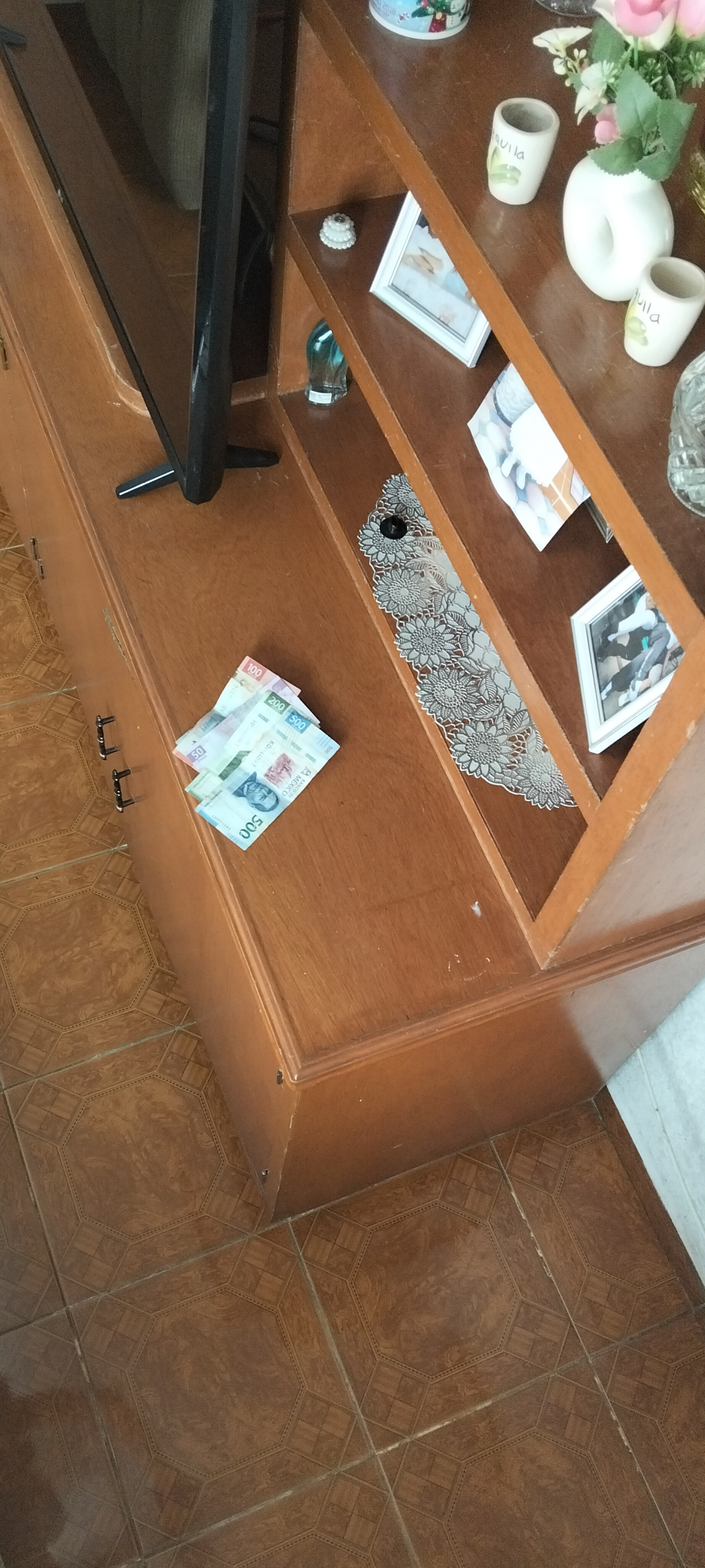billetes: (155, 627, 359, 872)
